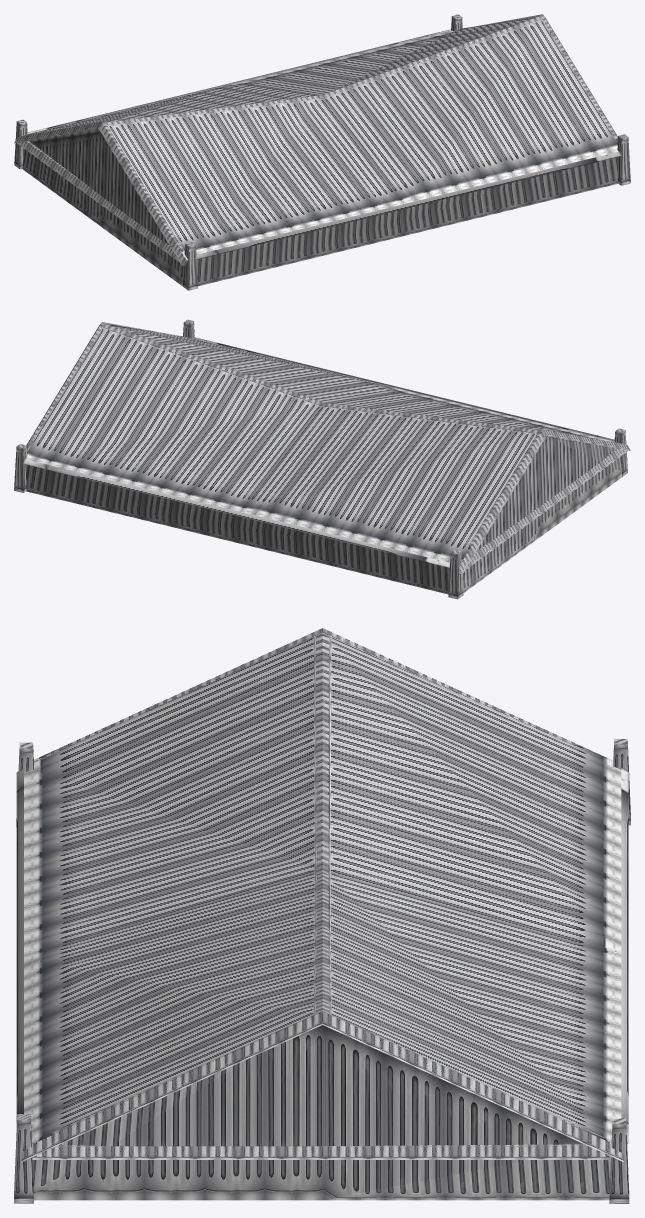
The model's file is ZeppelinHalleTeil_Dach_798.glb.
The picture shows the model from 3 angles, top to bottom: view 1: azimuth 30°, elevation 25°; view 2: azimuth 150°, elevation 25°; view 3: azimuth 270°, elevation 25°; orthographic projection. The views are drawn at different scales.
Visible parts, largest first — view 1: pPlaneShape158, pPlaneShape156, pPlaneShape163, pPlaneShape161, pPlaneShape159, pPlaneShape160, pPlaneShape169, pPlaneShape164, pPlaneShape167, pPlaneShape165, pPlaneShape171, pPlaneShape168 (+1 smaller); view 2: pPlaneShape159, pPlaneShape160, pPlaneShape170, pPlaneShape161, pPlaneShape158, pPlaneShape156, pPlaneShape171, pPlaneShape164, pPlaneShape167, pPlaneShape165, pPlaneShape169, pPlaneShape168 (+2 smaller); view 3: pPlaneShape160, pPlaneShape156, pPlaneShape162, pPlaneShape159, pPlaneShape158, pPlaneShape168, pPlaneShape166, pPlaneShape164, pPlaneShape171, pPlaneShape169, pPlaneShape167, pCylinderShape1130 (+1 smaller).
Part boxes in pixels (bbox=[...]): pPlaneShape158: bbox=[324, 20, 618, 203]; pPlaneShape156: bbox=[108, 99, 404, 260]; pPlaneShape163: bbox=[196, 157, 617, 286]; pPlaneShape161: bbox=[22, 128, 183, 286]; pPlaneShape159: bbox=[239, 18, 532, 95]; pPlaneShape160: bbox=[23, 82, 317, 135]; pPlaneShape169: bbox=[195, 151, 621, 259]; pPlaneShape164: bbox=[106, 16, 541, 126]; pPlaneShape167: bbox=[14, 121, 186, 266]; pPlaneShape165: bbox=[17, 140, 187, 265]; pPlaneShape171: bbox=[27, 29, 450, 133]; pPlaneShape168: bbox=[463, 14, 617, 139]; pPlaneShape159: bbox=[26, 328, 319, 511]; pPlaneShape160: bbox=[240, 406, 536, 562]; pPlaneShape170: bbox=[26, 465, 449, 594]; pPlaneShape161: bbox=[462, 436, 621, 592]; pPlaneShape158: bbox=[112, 326, 406, 403]; pPlaneShape156: bbox=[327, 390, 625, 444]; pPlaneShape171: bbox=[23, 459, 449, 567]; pPlaneShape164: bbox=[103, 324, 538, 433]; pPlaneShape167: bbox=[459, 429, 630, 574]; pPlaneShape165: bbox=[459, 448, 627, 573]; pPlaneShape169: bbox=[194, 337, 614, 441]; pPlaneShape168: bbox=[15, 322, 179, 463]; pPlaneShape160: bbox=[330, 637, 621, 956]; pPlaneShape156: bbox=[24, 637, 314, 956]; pPlaneShape162: bbox=[32, 1025, 610, 1200]; pPlaneShape159: bbox=[330, 873, 621, 1142]; pPlaneShape158: bbox=[24, 873, 314, 1143]; pPlaneShape168: bbox=[21, 1011, 623, 1161]; pPlaneShape166: bbox=[32, 1144, 611, 1159]; pPlaneShape164: bbox=[313, 633, 331, 1014]; pPlaneShape171: bbox=[621, 767, 628, 1143]; pPlaneShape169: bbox=[16, 769, 23, 1124]; pPlaneShape167: bbox=[34, 628, 604, 762]; pCylinderShape1130: bbox=[14, 1119, 33, 1203].
Bounding box in the file's own units: 3.14 × 0.7146 × 2.1.
35 materials, 35 textured.
